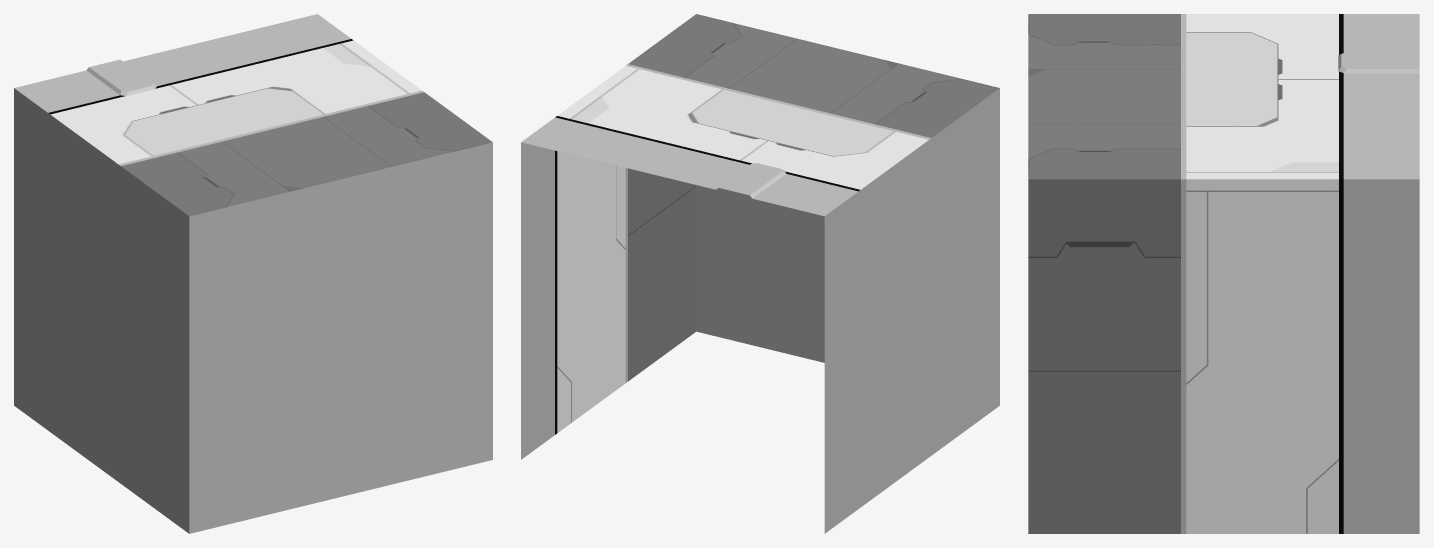
The model's file is SM_Floor_Interior_5x5_1.fbx.
3 renders of one model, left to right at view 1: azimuth 30°, elevation 25°; view 2: azimuth 150°, elevation 25°; view 3: azimuth 270°, elevation 25°, orthographic. The views are drawn at different scales.
Parts seen in each view (by area): view 1: SM_Floor_Interior_5x5_1; view 2: SM_Floor_Interior_5x5_1; view 3: SM_Floor_Interior_5x5_1.
Part boxes in pixels (<box>): SM_Floor_Interior_5x5_1: <box>14,14,492,533</box>; SM_Floor_Interior_5x5_1: <box>521,14,999,533</box>; SM_Floor_Interior_5x5_1: <box>1028,14,1419,533</box>.
Bounding box in the file's own units: 500 × 504 × 500.
